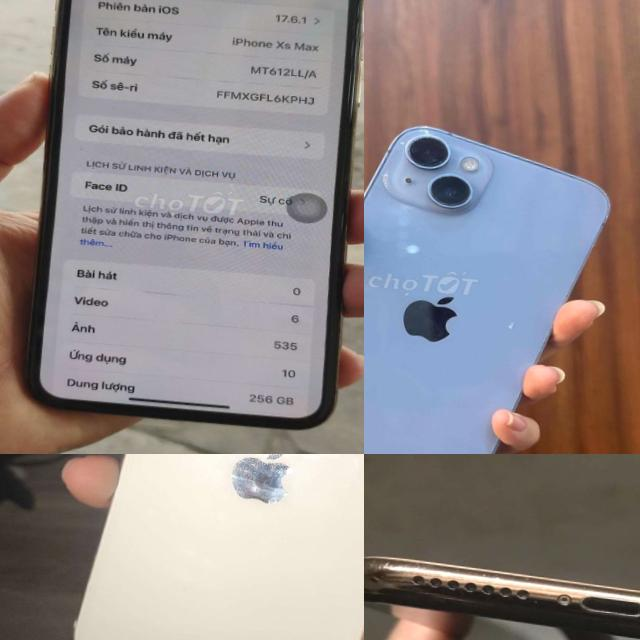scratch: (364, 553, 640, 640), (216, 454, 303, 505)
